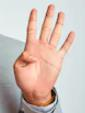right: (12, 1, 76, 95)
